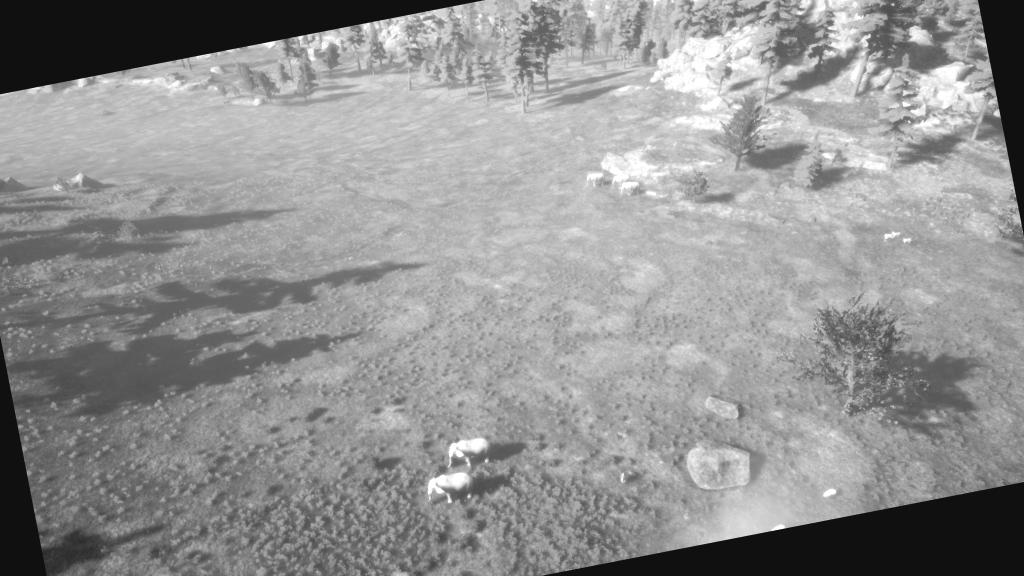elephant: (420, 463, 480, 512), (440, 433, 497, 473), (605, 171, 635, 193), (616, 178, 645, 200), (582, 169, 608, 191)
human: (614, 470, 630, 488)
zebra: (888, 228, 904, 241), (900, 235, 914, 248), (882, 230, 894, 244)
